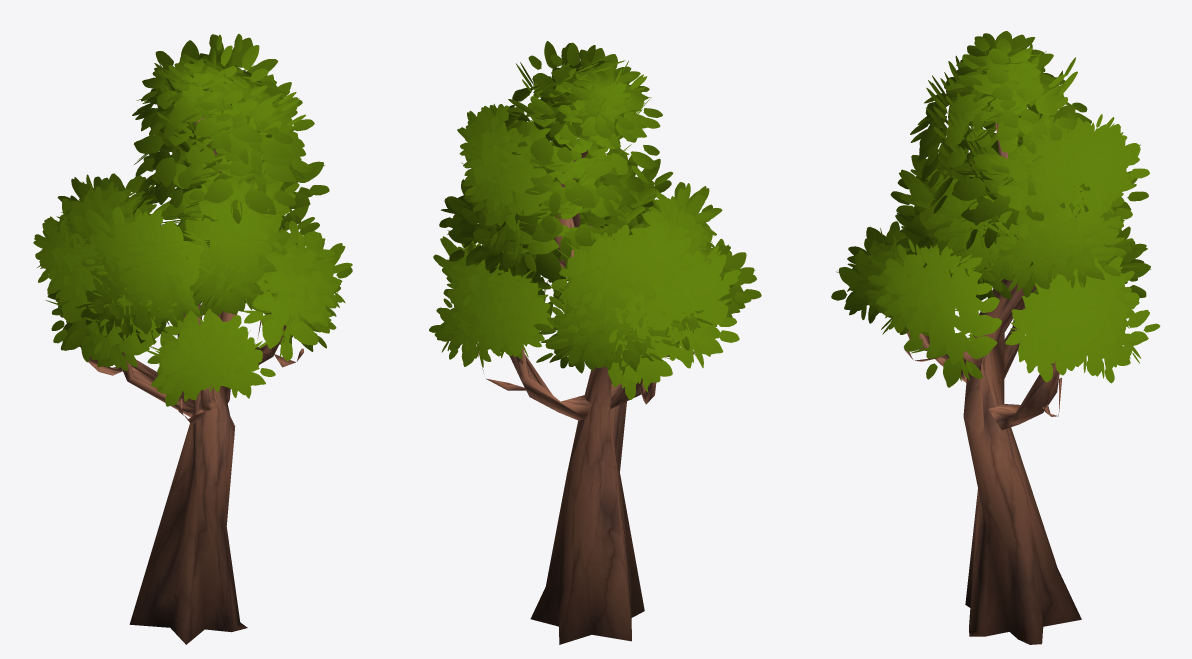
File: CommonTree_2@lod.gltf
The picture shows the model from 3 angles, left to right: view 1: azimuth 30°, elevation 25°; view 2: azimuth 150°, elevation 25°; view 3: azimuth 270°, elevation 25°; orthographic projection. The views are drawn at different scales.
Parts seen in each view (by area): view 1: CommonTree_2; view 2: CommonTree_2; view 3: CommonTree_2.
Part boxes in pixels (x1,y1,x2,y2): CommonTree_2: [33, 34, 352, 644]; CommonTree_2: [429, 41, 761, 644]; CommonTree_2: [831, 31, 1160, 644].
Size of the model in its own units: 4.46 by 7.64 by 4.28.
2 materials, 2 textured.
